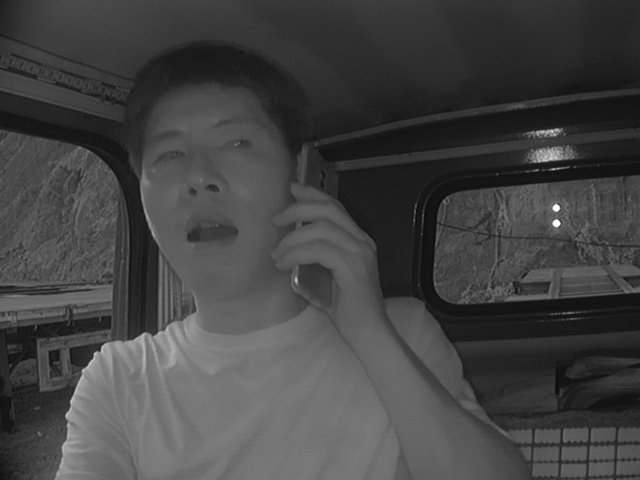hand: (269, 181, 387, 342)
